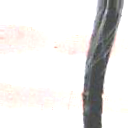crackTip: (80, 1, 126, 128)
